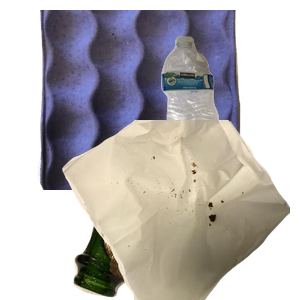glass: (71, 152, 260, 300)
paper: (35, 10, 268, 190)
plastic: (159, 34, 300, 176)
trash: (60, 120, 300, 300)
